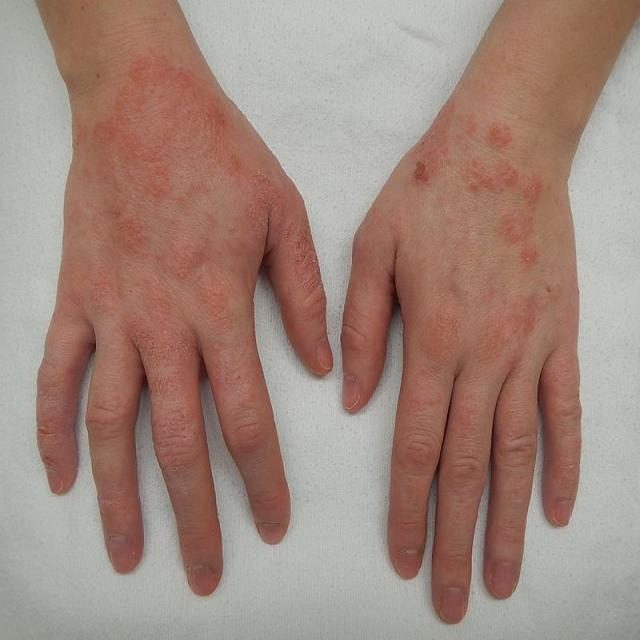eczema: (86, 50, 310, 313), (395, 136, 555, 312)
